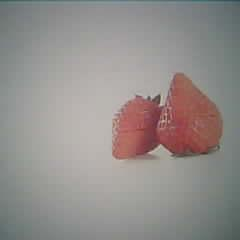straw-ripe: (158, 74, 224, 153), (111, 95, 162, 160)
